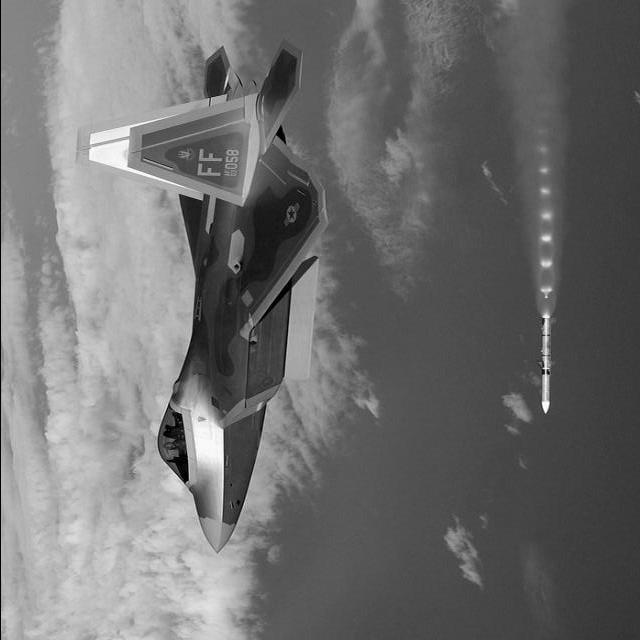missile: (528, 311, 558, 416)
